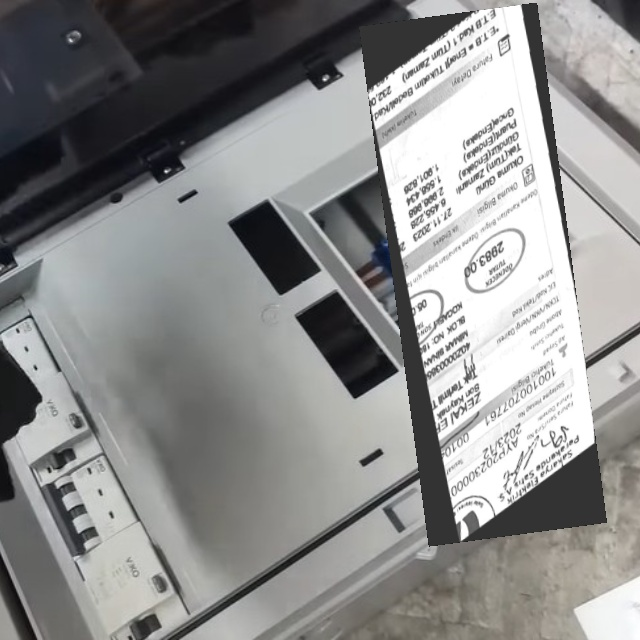electricity-bill: (358, 2, 606, 546)
